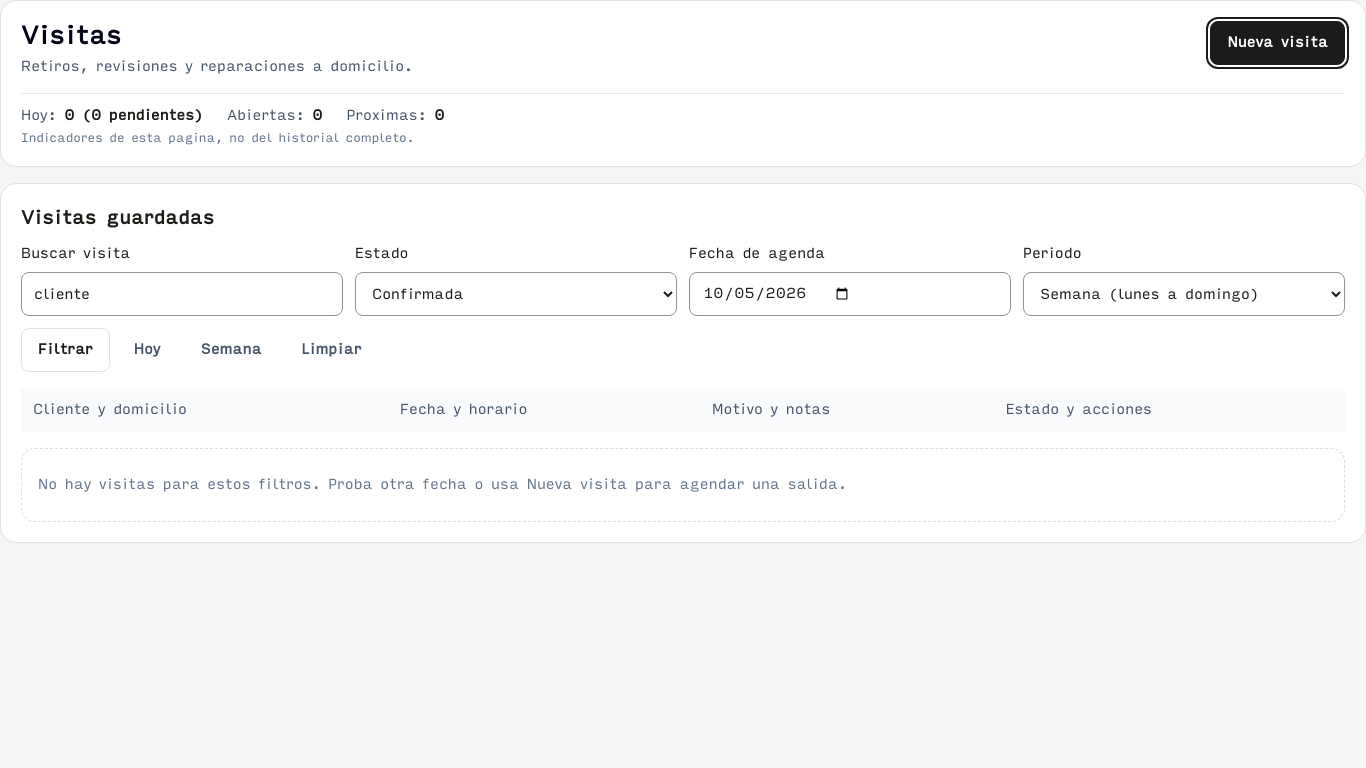
one visit workflow › keeps a new draft after Escape and explicitly recovers it on reopen
Click the button "Nueva visita" at (1278, 43), box [1210,21,1345,65]
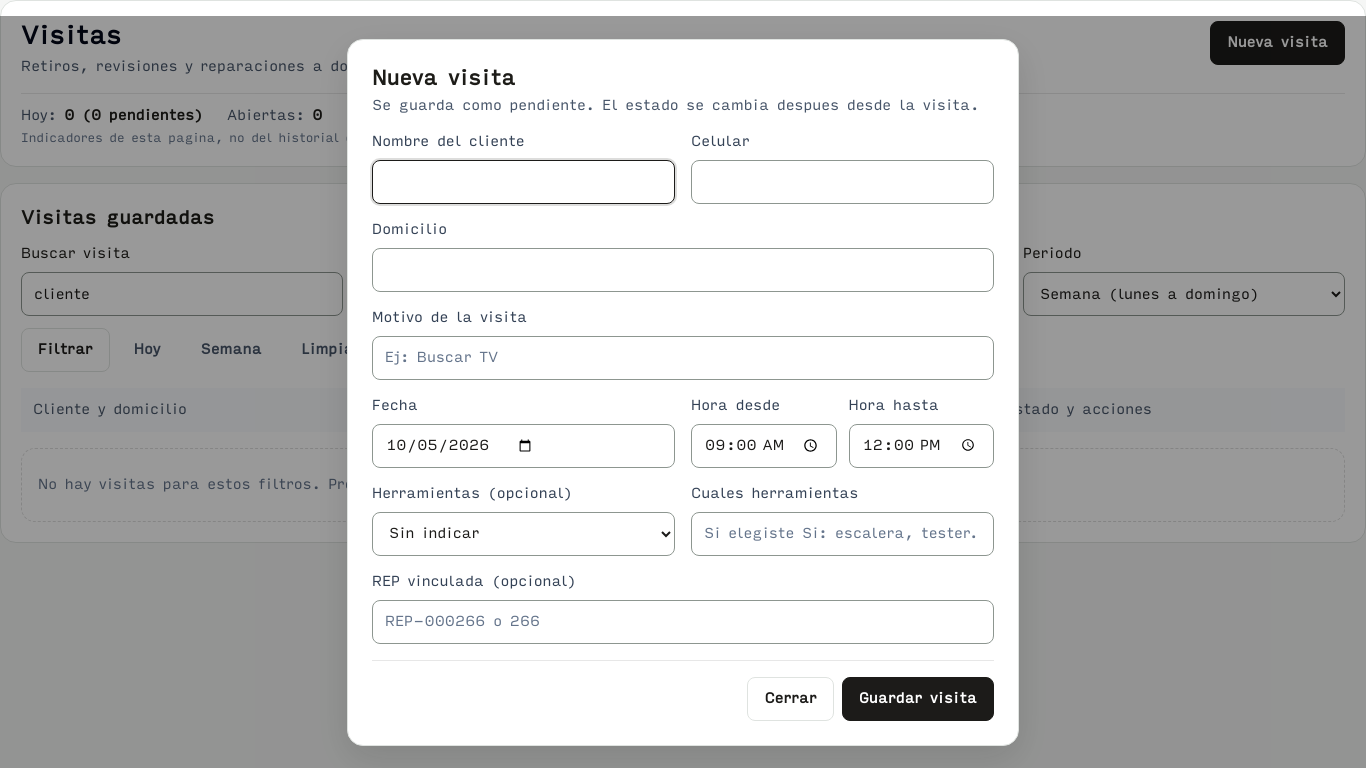
Type "Borrador" into the field labelled "Nombre del cliente" at (524, 182), box [372,160,675,204]
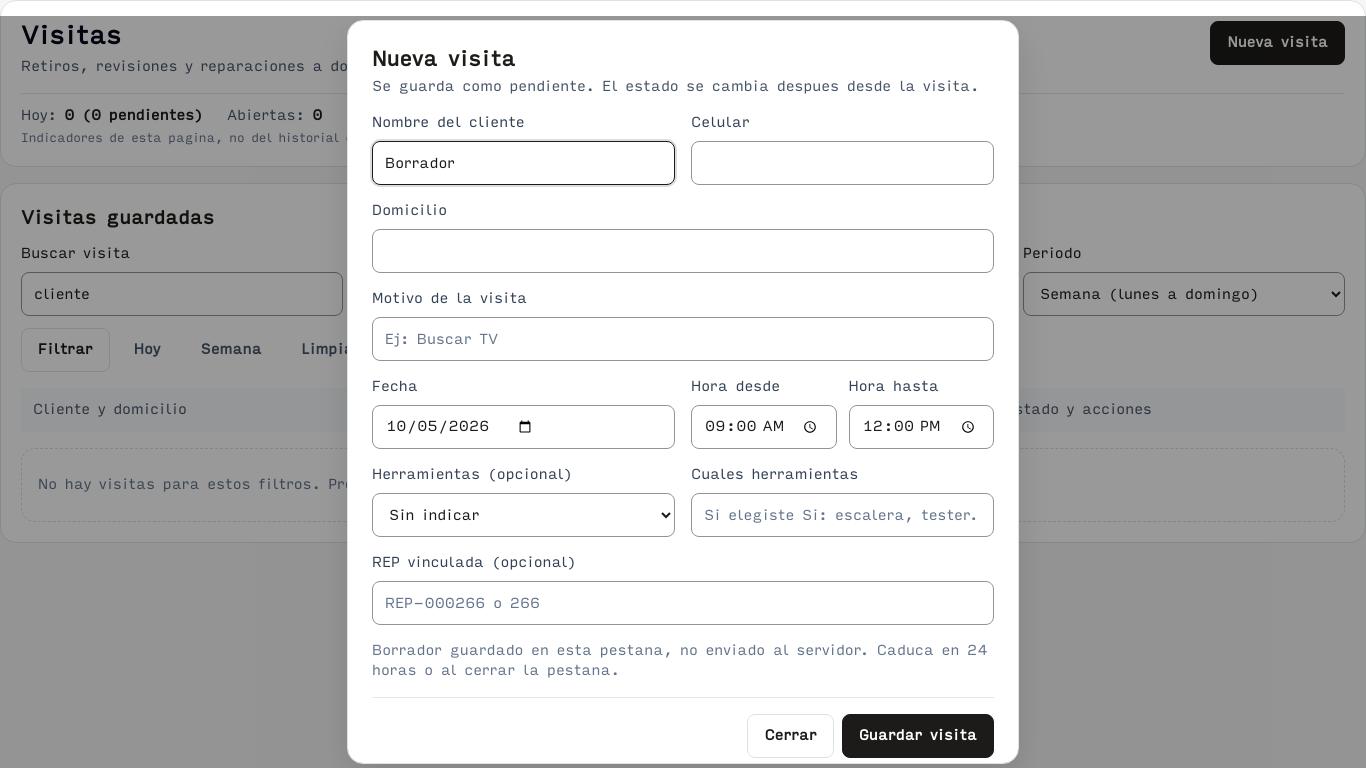
Select "Si, llevar herramientas" in the dropdown labelled "Herramientas (opcional)" at (524, 515), box [372,493,675,537]
Type "Escalera" into the field labelled "Cuales herramientas" at (842, 515), box [691,493,994,537]
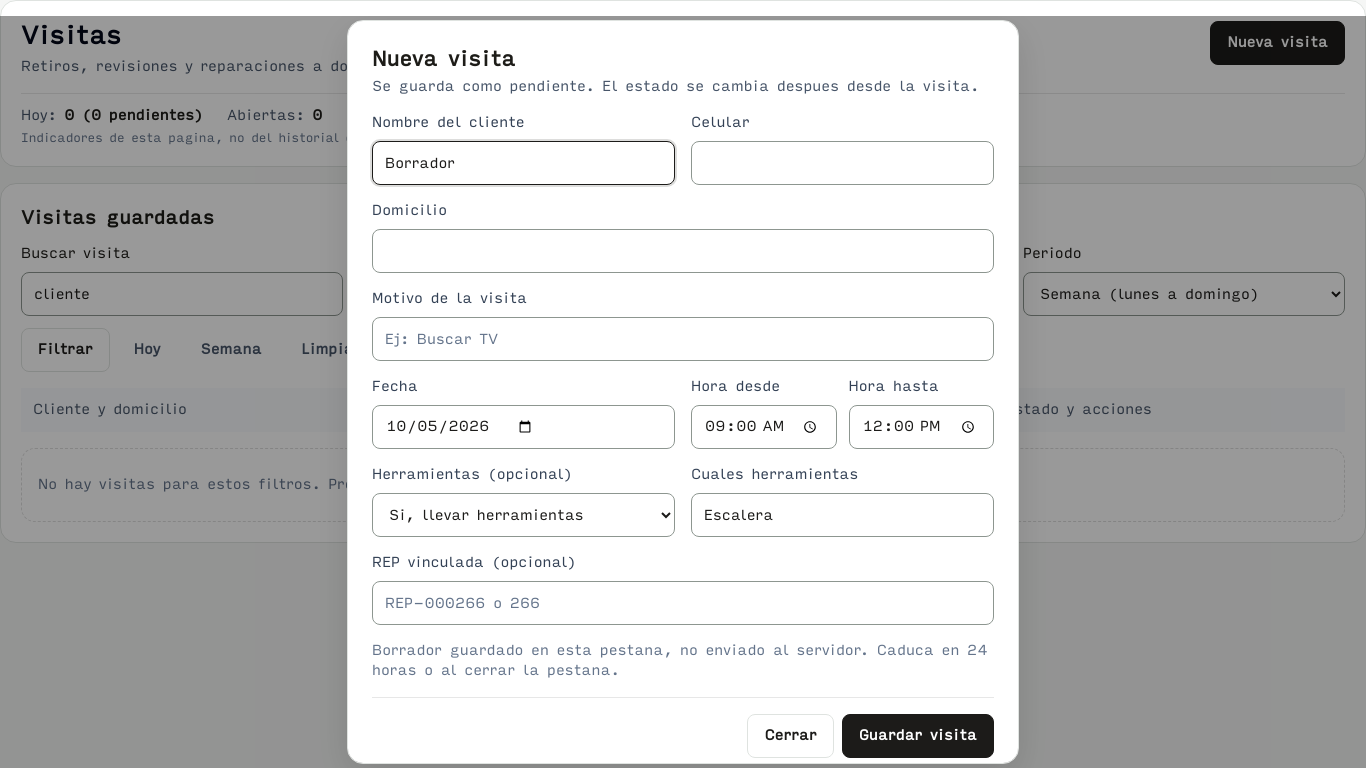
Press Escape
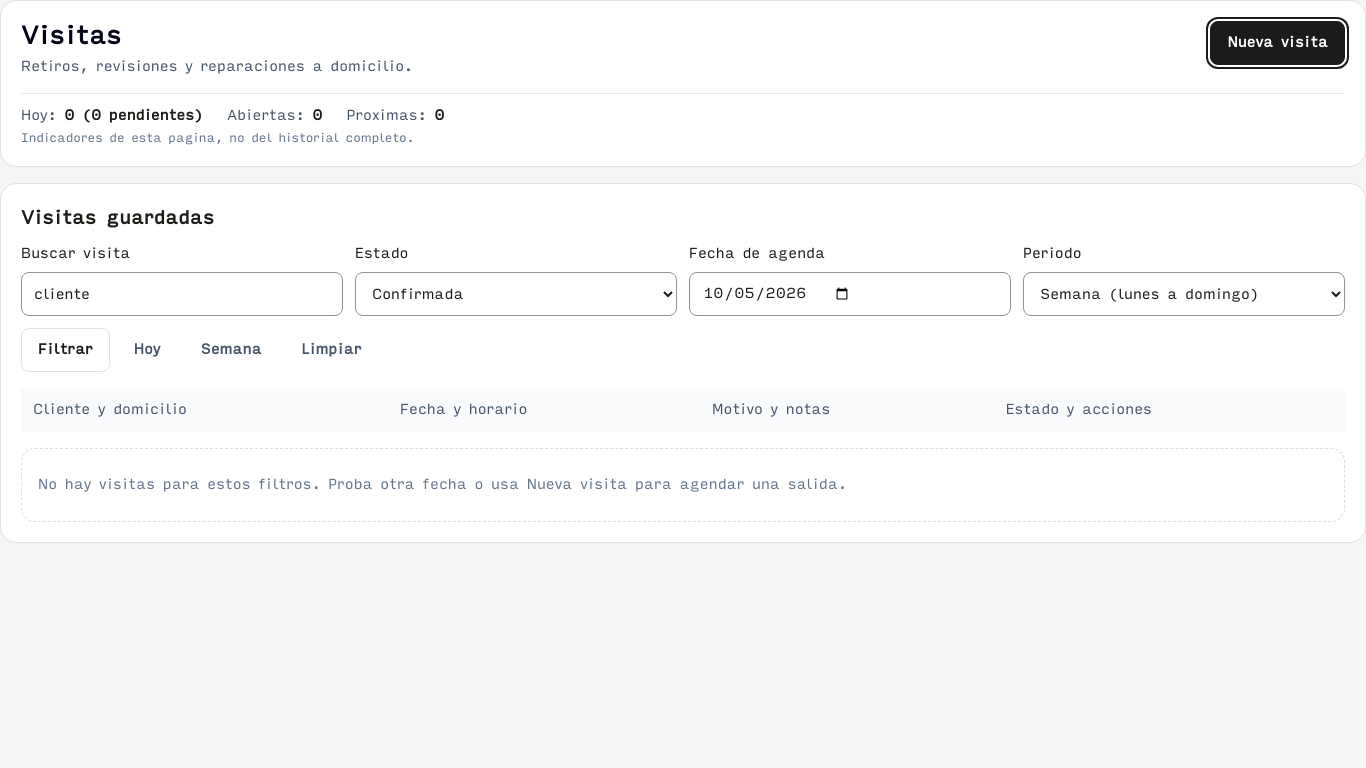
Expected: the dialog is gone
Click the button "Nueva visita" at (1278, 43), box [1210,21,1345,65]
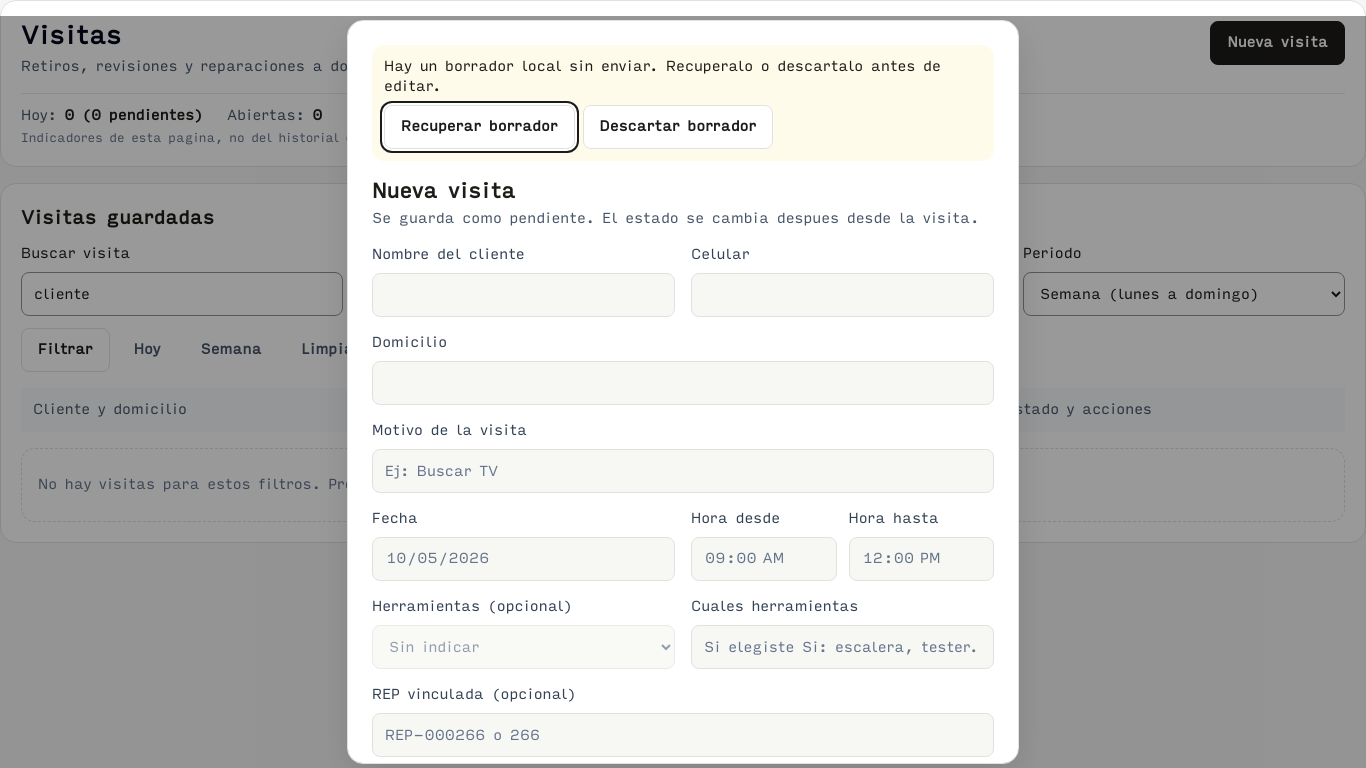
Click the button "Recuperar borrador" at (479, 127), box [384,105,574,149]
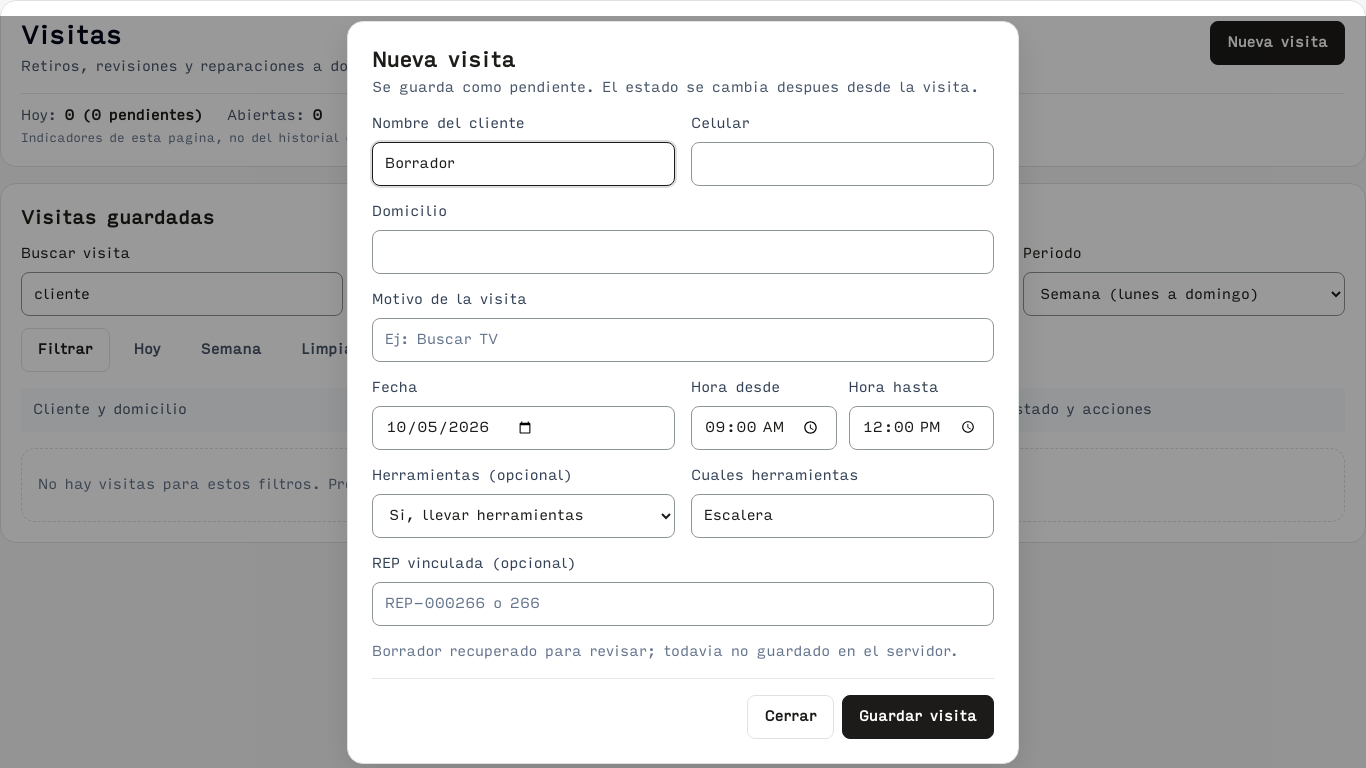
Expected: the field labelled "Nombre del cliente" holds "Borrador", [372,142,675,186]
Expected: the dropdown labelled "Herramientas (opcional)" shows "Si, llevar herramientas", [372,494,675,538]
Expected: the field labelled "Cuales herramientas" holds "Escalera", [691,494,994,538]
